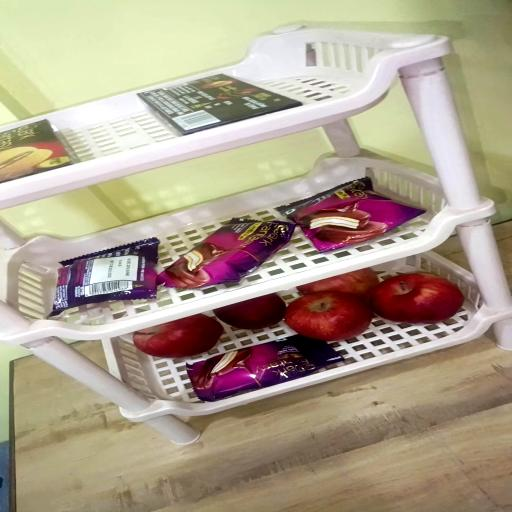Apple: (368, 274, 463, 325), (285, 293, 374, 342), (135, 314, 225, 358), (296, 269, 380, 300), (216, 294, 288, 330)
Choco Fills: (139, 72, 304, 136), (0, 118, 78, 182)
Choco Pie: (276, 180, 426, 256), (188, 335, 345, 402), (160, 220, 296, 290), (48, 240, 158, 318)
